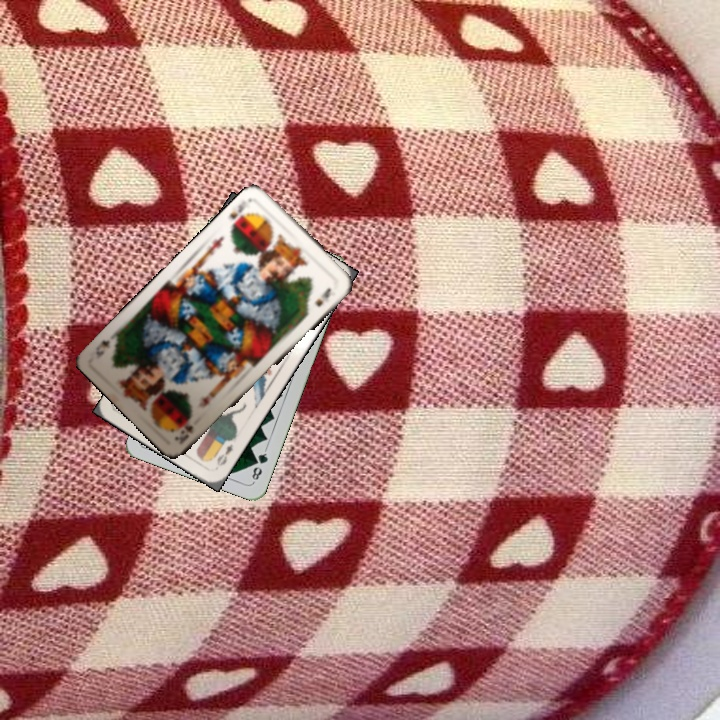EO: (212, 439, 236, 469)
G8: (247, 445, 271, 485)
SK: (223, 194, 259, 232), (171, 421, 196, 447)
